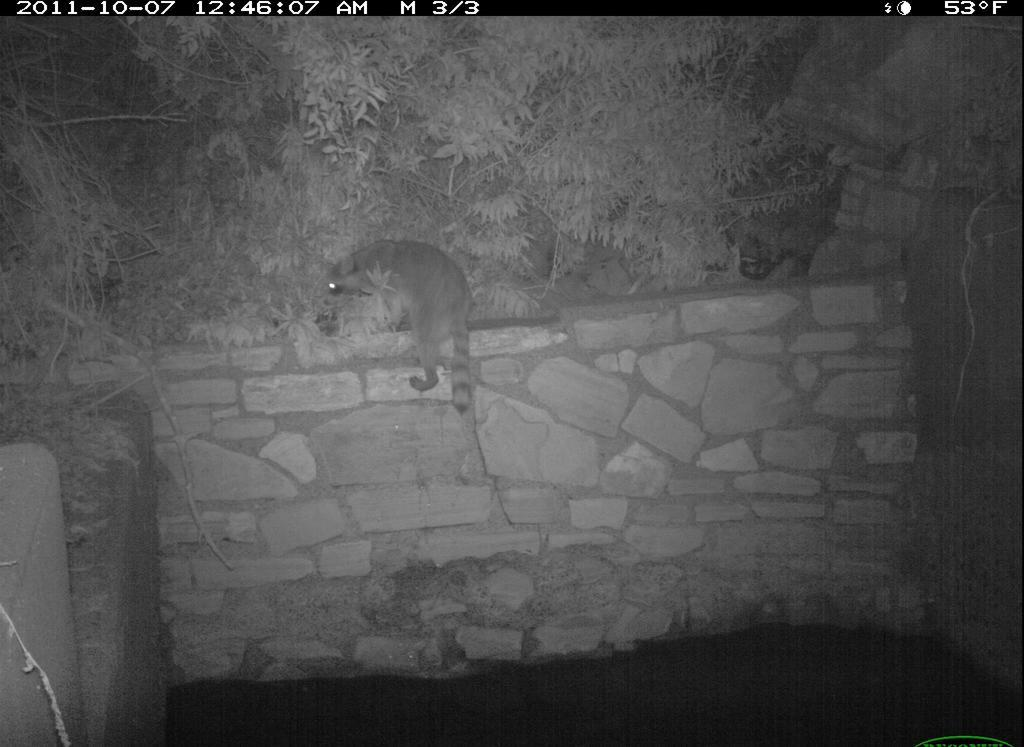raccoon: (322, 237, 481, 420)
